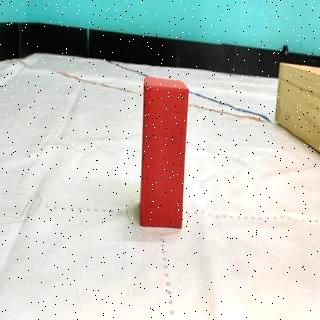redbox: (141, 79, 189, 230)
